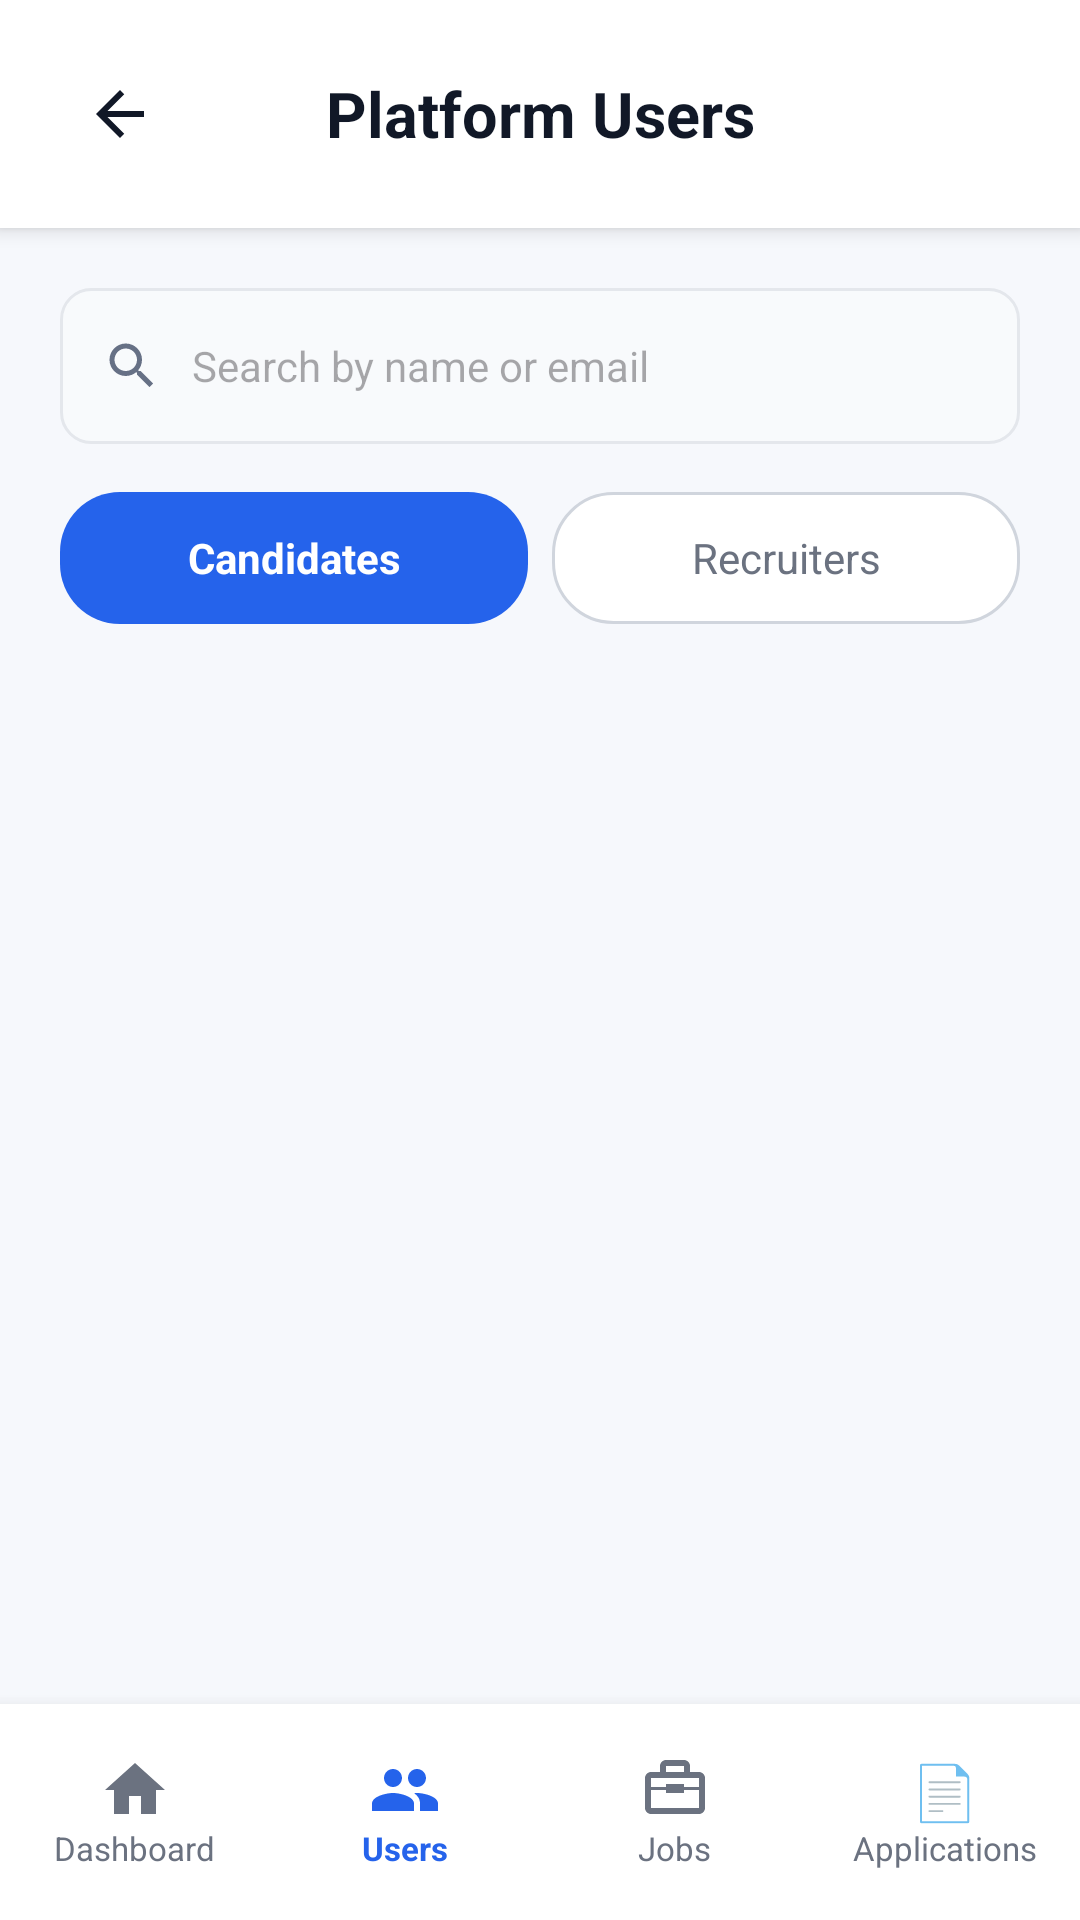

Point at icon controls on the screen. Image size 1080px×1920px, points as [x,y].
Back: [120,114]
recruiter dashboard briefcase: [675,1787]
recruiter dashboard people: [405,1790]
